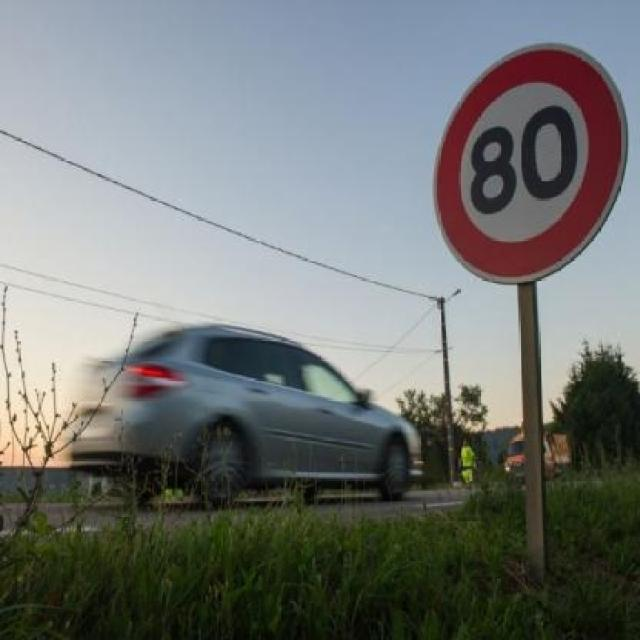forb_speed_over_80: (447, 61, 608, 264)
